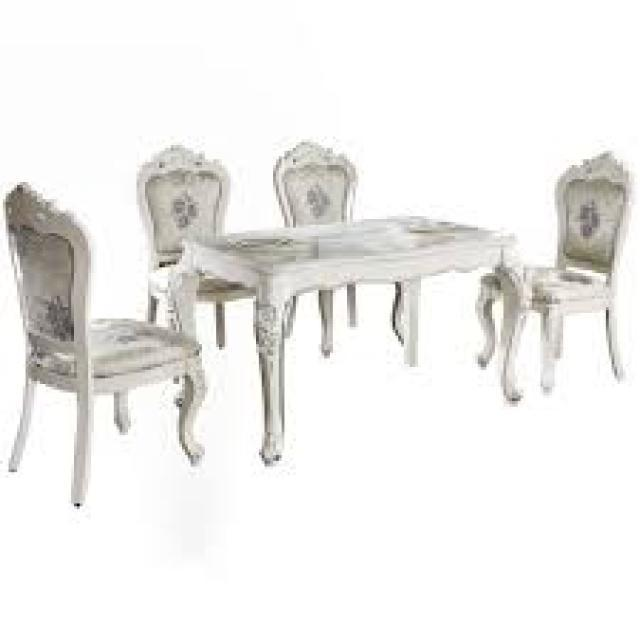table: (3, 132, 640, 504)
